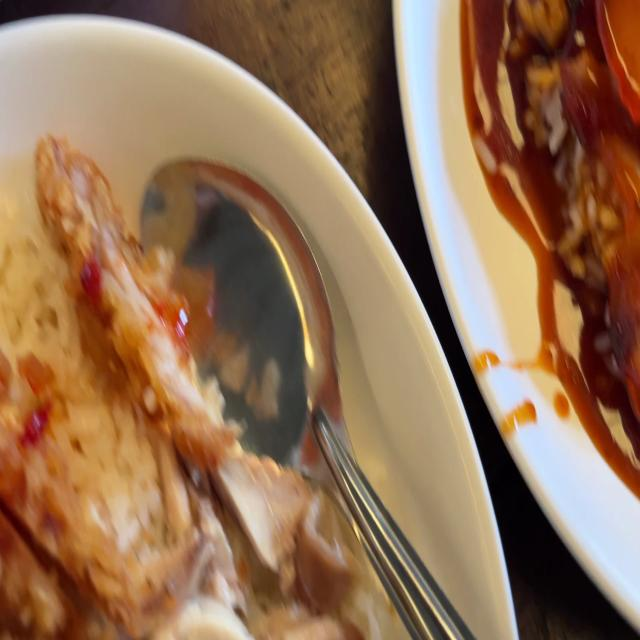chicken_rice: (0, 138, 385, 639)
fried_chicken: (0, 147, 234, 640)
red_pork_and_crispy_pork: (494, 0, 640, 433)
